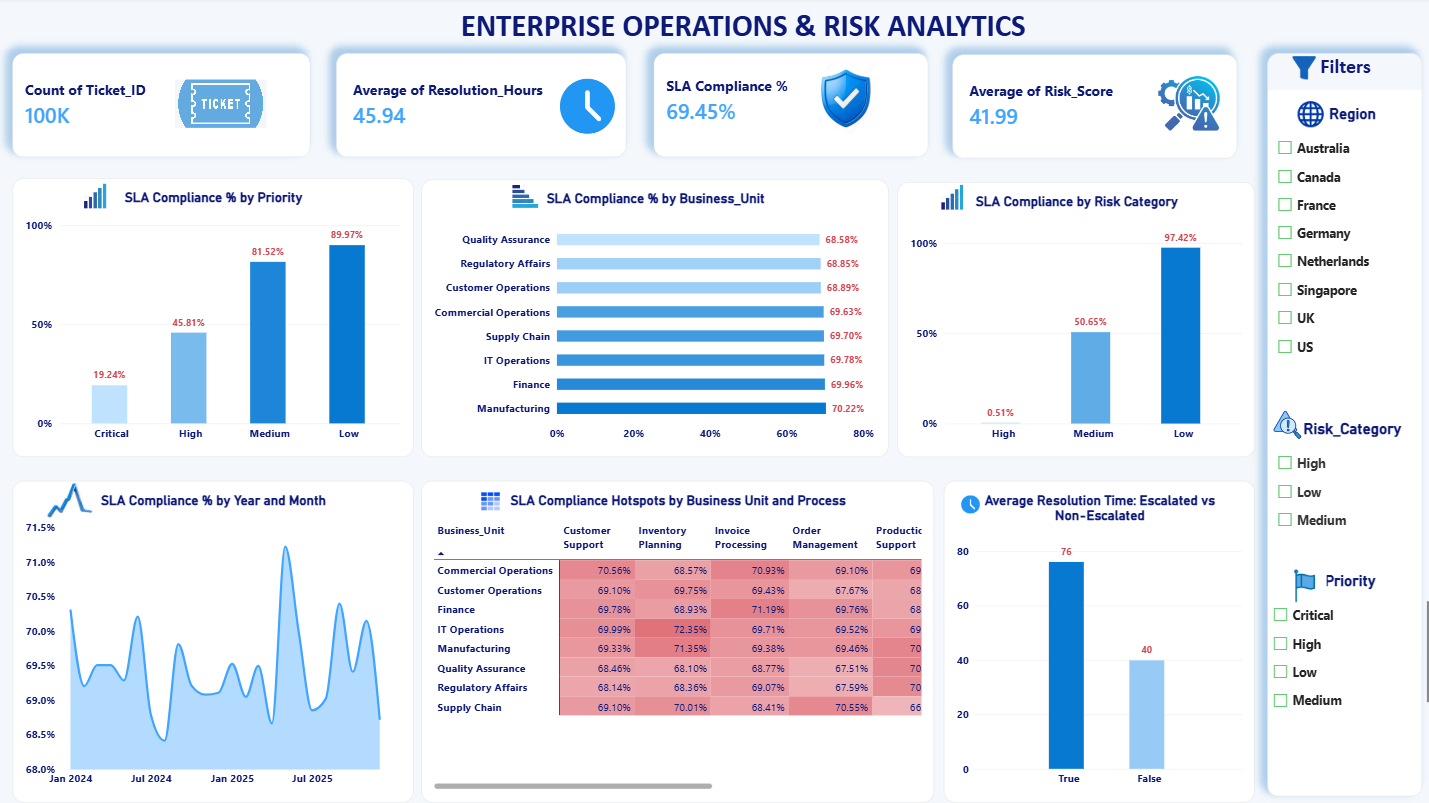

The page's visual inventory and layout, read from the dashboard file:
{"tool":"powerbi","page":{"name":"Page 1","canvas":[1920,1080],"ordinal":0},"visuals":[{"type":"cardVisual","fields":{"Data":["CountNonNull(enterprise_operations_risk_analytics_clean.Ticket_ID)"]},"box":[17.4,75,399.4,139.5],"z":0},{"type":"cardVisual","fields":{"Data":["Avg(enterprise_operations_risk_analytics_clean.Resolution_Hours)"]},"box":[450,75,389,139.5],"z":1000},{"type":"cardVisual","fields":{"Data":["enterprise_operations_risk_analytics_clean.SLA Compliance %"]},"box":[875.6,75,368,139.5],"z":2000},{"type":"cardVisual","fields":{"Data":["Avg(enterprise_operations_risk_analytics_clean.Risk_Score)"]},"box":[1276.7,76.7,382,139.5],"z":3000},{"type":"clusteredColumnChart","title":"SLA Compliance by Risk Category","fields":{"Category":["enterprise_operations_risk_analytics_clean.Risk_Category"],"Y":["enterprise_operations_risk_analytics_clean.SLA Compliance %"]},"box":[1202.6,247.9,479,368.5],"z":4000},{"type":"clusteredColumnChart","fields":{"Category":["enterprise_operations_risk_analytics_clean.Priority"],"Y":["enterprise_operations_risk_analytics_clean.SLA Compliance %"]},"box":[17.4,242.4,537.2,373.3],"z":5000},{"type":"clusteredBarChart","fields":{"Category":["enterprise_operations_risk_analytics_clean.Business_Unit"],"Y":["enterprise_operations_risk_analytics_clean.SLA Compliance %"]},"box":[564.5,244.5,626.4,371.8],"z":6000},{"type":"lineChart","fields":{"Category":["enterprise_operations_risk_analytics_clean.Created_Date.Variation.Date Hierarchy.Year","enterprise_operations_risk_analytics_clean.Created_Date.Variation.Date Hierarchy.Month"],"Y":["enterprise_operations_risk_analytics_clean.SLA Compliance %"]},"box":[17.4,648.8,537.2,430.8],"z":7000},{"type":"clusteredColumnChart","title":"Average Resolution Time: Escalated vs Non-Escalated","fields":{"Category":["enterprise_operations_risk_analytics_clean.Escalation_Flag"],"Y":["Avg(enterprise_operations_risk_analytics_clean.Resolution_Hours)"]},"box":[1264.5,648.8,416.9,430.8],"z":8000},{"type":"pivotTable","title":"SLA Compliance Hotspots by Business Unit and Process","fields":{"Columns":["enterprise_operations_risk_analytics_clean.Process"],"Rows":["enterprise_operations_risk_analytics_clean.Business_Unit"],"Values":["enterprise_operations_risk_analytics_clean.SLA Compliance %"]},"box":[565.1,648.8,687.2,430.8],"z":9000},{"type":"textbox","title":"ENTERPRISE OPERATIONS & RISK ANALYTICS","box":[605.2,0,802.3,61],"z":10000},{"type":"shape","title":"Filters","box":[1698.8,75,207.6,995.9],"z":11000},{"type":"image","box":[233.7,109.9,122.1,64.5],"z":12000},{"type":"slicer","title":"Risk_Category","fields":{"Values":["enterprise_operations_risk_analytics_clean.Risk_Category"]},"box":[1705.8,566.9,214.5,165.7],"z":13000},{"type":"slicer","title":"Priority","fields":{"Values":["enterprise_operations_risk_analytics_clean.Priority"]},"box":[1698.8,770.9,221.5,186.6],"z":14000},{"type":"slicer","title":"Region","fields":{"Values":["enterprise_operations_risk_analytics_clean.Region"]},"box":[1705.8,144.8,214.5,345.3],"z":15000},{"type":"image","box":[1732,73.3,31.4,41.9],"z":16000},{"type":"image","box":[750,108.1,73.3,75],"z":17000},{"type":"image","box":[1548.8,94.2,85.5,95.9],"z":18000},{"type":"image","box":[1088.4,89,90.7,94.2],"z":19000},{"type":"image","box":[108.1,247.7,38.4,36.6],"z":20000},{"type":"image","box":[1252.3,249.4,47.1,36.6],"z":21000},{"type":"image","box":[61,650.6,66.3,48.8],"z":22000},{"type":"image","box":[1287.2,659.3,24.4,40.1],"z":23000},{"type":"image","box":[645.4,655.8,24.4,38.4],"z":24000},{"type":"image","box":[685.5,249.4,38.4,36.6],"z":25000},{"type":"image","box":[1739,130.8,34.9,52.3],"z":26000},{"type":"image","box":[1718,757,59.3,64.5],"z":27001},{"type":"image","box":[1698.8,551.2,40.1,45.3],"z":27002}]}

Visuals, with their boxes in screenshot pixels (x1, y1, x2, y2), scaled from the page's 1920x1080 canvas onto the 1429x803 screenshot:
cardVisual - CountNonNull(enterprise_operations_risk_analytics_clean.Ticket_ID): 13 56 310 159
cardVisual - Avg(enterprise_operations_risk_analytics_clean.Resolution_Hours): 335 56 624 159
cardVisual - enterprise_operations_risk_analytics_clean.SLA Compliance %: 652 56 926 159
cardVisual - Avg(enterprise_operations_risk_analytics_clean.Risk_Score): 950 57 1235 161
"SLA Compliance by Risk Category" clusteredColumnChart: 895 184 1252 458
clusteredColumnChart - enterprise_operations_risk_analytics_clean.Priority x enterprise_operations_risk_analytics_clean.SLA Compliance %: 13 180 413 458
clusteredBarChart - enterprise_operations_risk_analytics_clean.Business_Unit x enterprise_operations_risk_analytics_clean.SLA Compliance %: 420 182 886 458
lineChart - enterprise_operations_risk_analytics_clean.Created_Date.Variation.Date Hierarchy.Year x enterprise_operations_risk_analytics_clean.Created_Date.Variation.Date Hierarchy.Month: 13 482 413 802
"Average Resolution Time: Escalated vs Non-Escalated" clusteredColumnChart: 941 482 1251 802
"SLA Compliance Hotspots by Business Unit and Process" pivotTable: 421 482 932 802
"ENTERPRISE OPERATIONS & RISK ANALYTICS" textbox: 450 0 1048 45
"Filters" shape: 1264 56 1419 796
image: 174 82 265 130
"Risk_Category" slicer: 1270 422 1428 545
"Priority" slicer: 1264 573 1428 712
"Region" slicer: 1270 108 1428 364
image: 1289 54 1312 86
image: 558 80 613 136
image: 1153 70 1216 141
image: 810 66 878 136
image: 80 184 109 211
image: 932 185 967 213
image: 45 484 95 520
image: 958 490 976 520
image: 480 488 499 516
image: 510 185 539 213
image: 1294 97 1320 136
image: 1279 563 1323 611
image: 1264 410 1294 444
